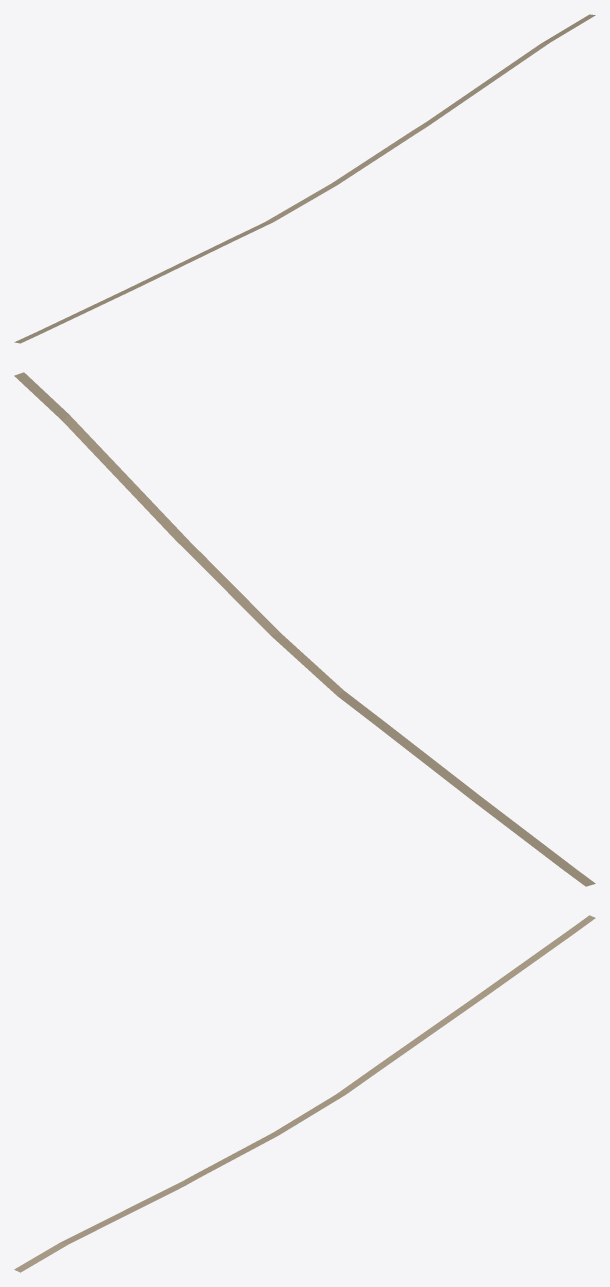
Rendered from farm_-33_-28_track.glb.
3 views of the same model, one above another, from view 1: azimuth 90°, elevation 25°; view 2: azimuth 150°, elevation 25°; view 3: azimuth 270°, elevation 25° (orthographic). The views are drawn at different scales.
Visible parts, largest first — view 1: geometry_0; view 2: geometry_0; view 3: geometry_0.
Boxes of the visible parts, bbox=[...] form: geometry_0: bbox=[14, 14, 595, 343]; geometry_0: bbox=[14, 372, 595, 886]; geometry_0: bbox=[14, 915, 595, 1272].
Bounding box in the file's own units: 335 × 13.72 × 240.
